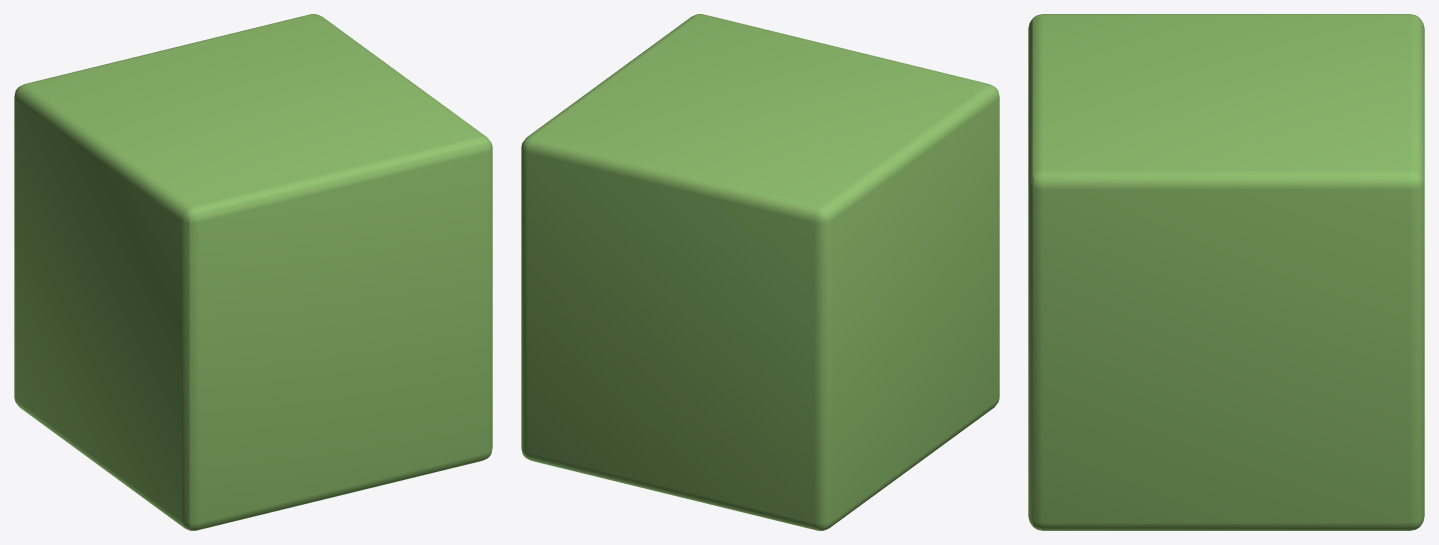
The model's file is cubo_prueba_una_cara.gltf.
3 views of the same model, side by side, from view 1: azimuth 30°, elevation 25°; view 2: azimuth 150°, elevation 25°; view 3: azimuth 270°, elevation 25° (orthographic). The views are drawn at different scales.
Visible parts, largest first — view 1: Cube, Cube.001; view 2: Cube; view 3: Cube, Cube.001.
Part boxes in pixels (bbox=[...]): Cube: bbox=[14, 14, 492, 530]; Cube.001: bbox=[189, 142, 492, 529]; Cube: bbox=[521, 14, 999, 530]; Cube: bbox=[1032, 14, 1424, 530]; Cube.001: bbox=[1028, 18, 1034, 527].
Bounding box in the file's own units: 2 × 2 × 2.
